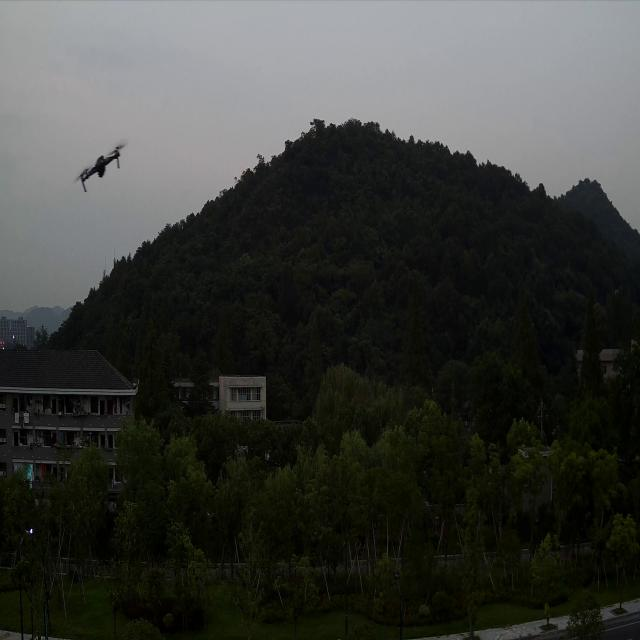UAV: (74, 148, 125, 186)
